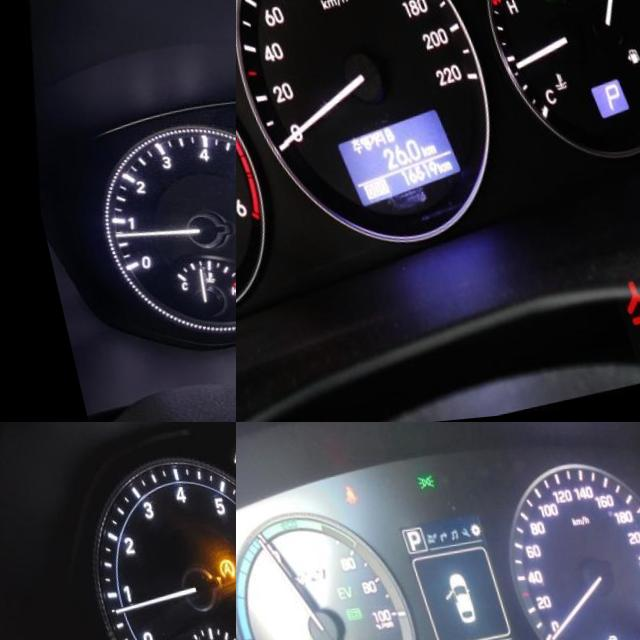LaneCenteringOff: (220, 455, 236, 470)
SideLamp: (408, 478, 429, 496)
